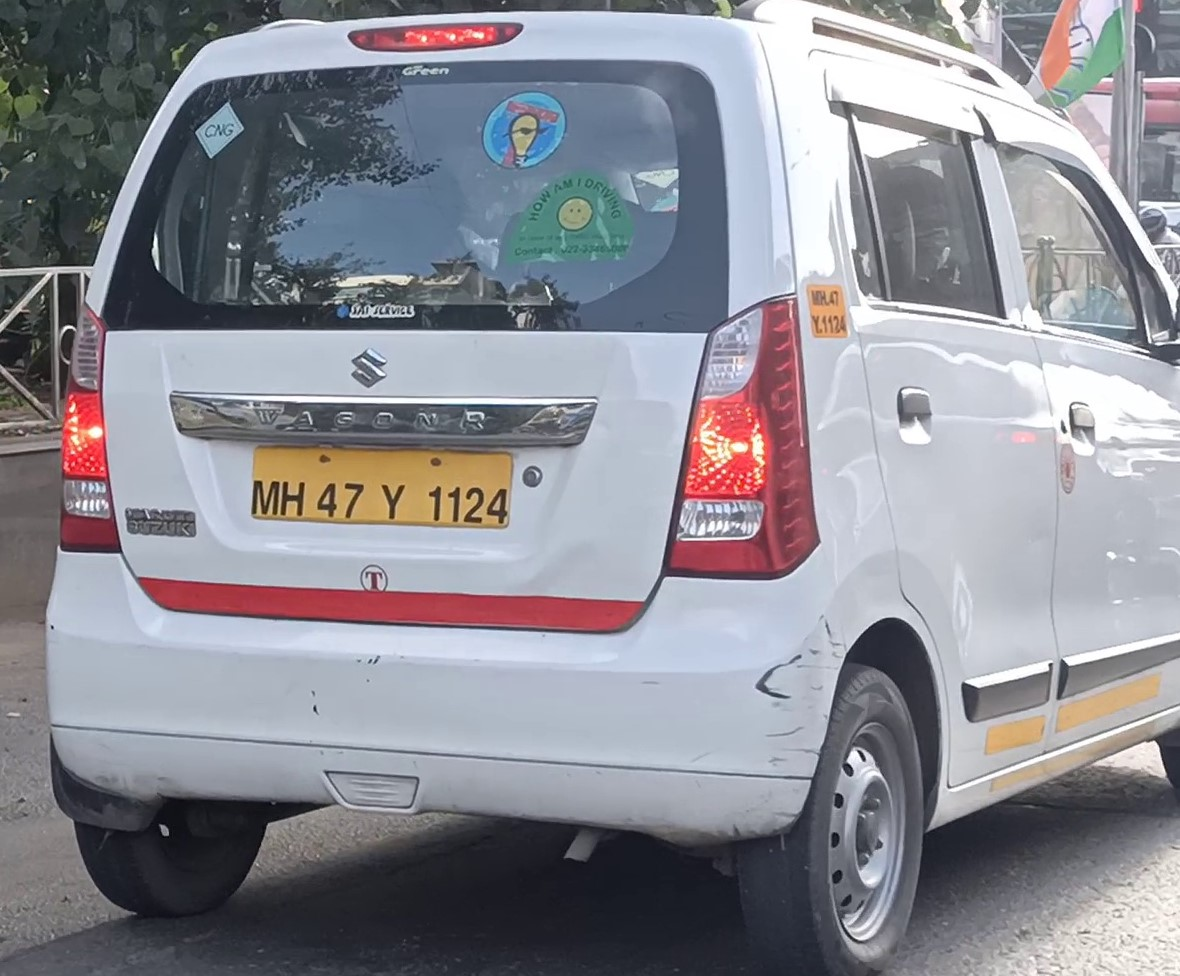MH47Y1124: (251, 443, 515, 532)
